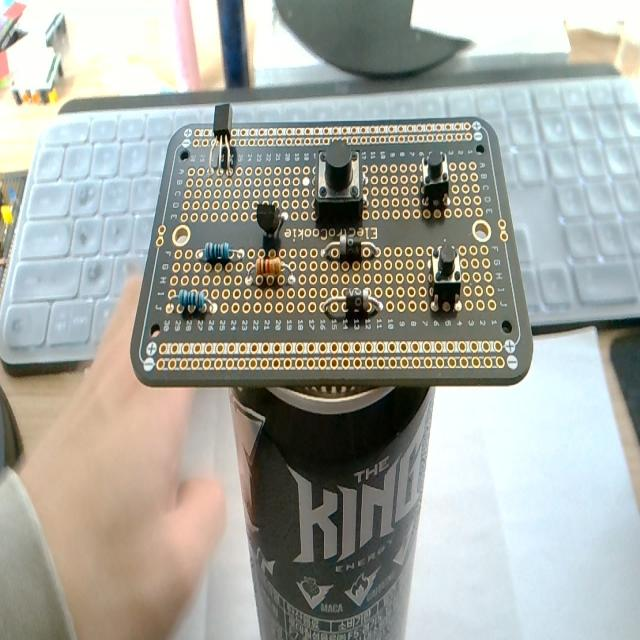diode: (324, 287, 383, 321), (321, 230, 380, 263)
resistor: (251, 256, 294, 288), (178, 289, 205, 314), (204, 241, 230, 261)
switch: (314, 143, 364, 226), (428, 239, 462, 312), (420, 149, 449, 209)
transistor: (211, 103, 234, 170), (256, 201, 286, 240)
